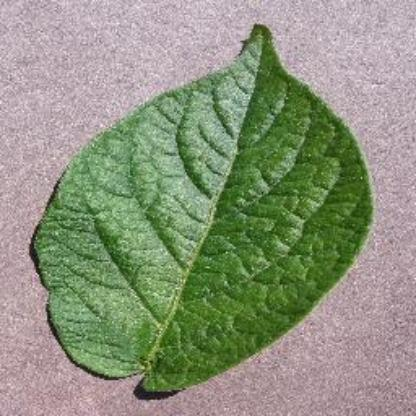Healthy-plant: (32, 22, 384, 398)
